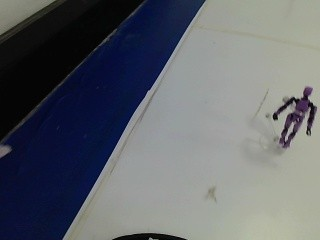pedestrian: (265, 75, 317, 160)
